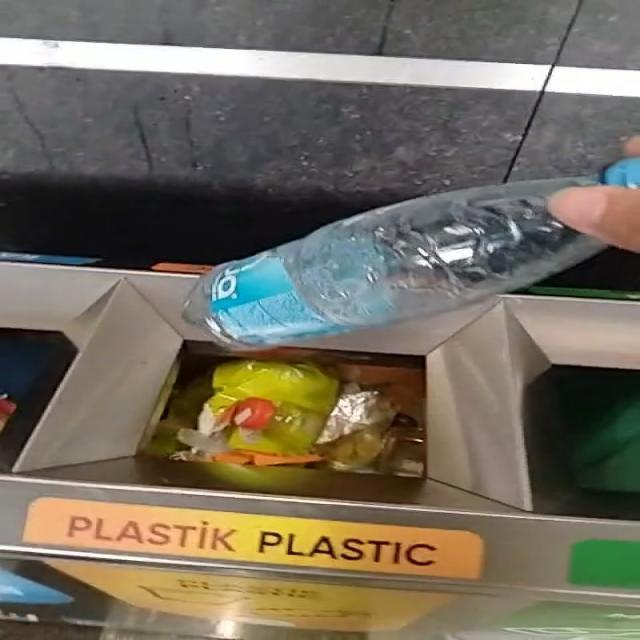Plastic: (188, 177, 605, 347)
